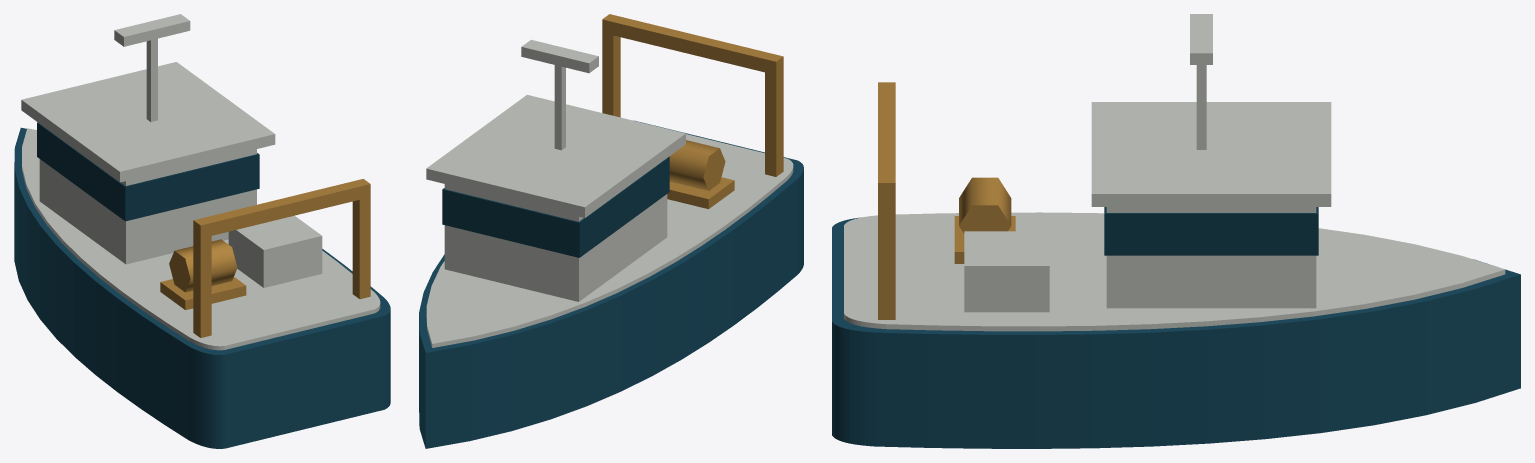
Rendered from research-vessel-low.v2.glb.
3 views of the same model, side by side, from view 1: azimuth 30°, elevation 25°; view 2: azimuth 150°, elevation 25°; view 3: azimuth 270°, elevation 25° (orthographic). The views are drawn at different scales.
Visible parts, largest first — view 1: deck, hull; view 2: deck, hull; view 3: deck, hull.
Boxes of the visible parts, box(x1,y1,x2,y2) form: deck: box(21, 14, 380, 350); hull: box(14, 127, 390, 448); deck: box(426, 14, 793, 347); hull: box(419, 120, 803, 448); deck: box(844, 14, 1505, 331); hull: box(832, 217, 1520, 448).
Bounding box in the file's own units: 2.62 × 3.58 × 6.3.
